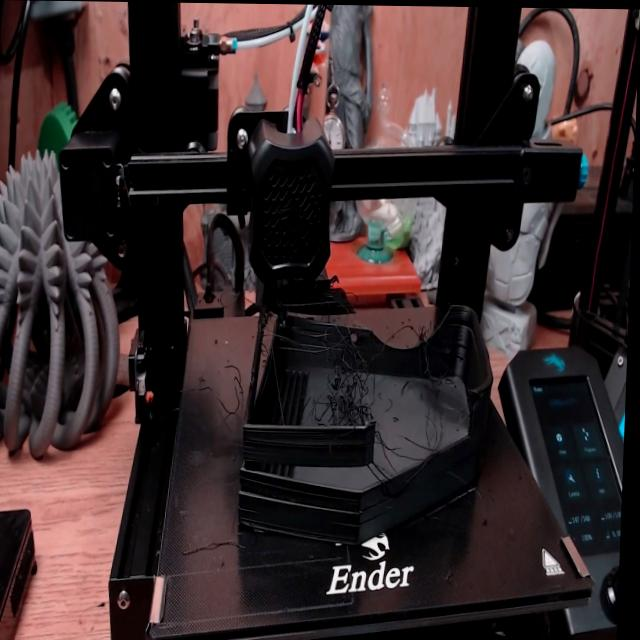spaghetti: (198, 305, 482, 472)
